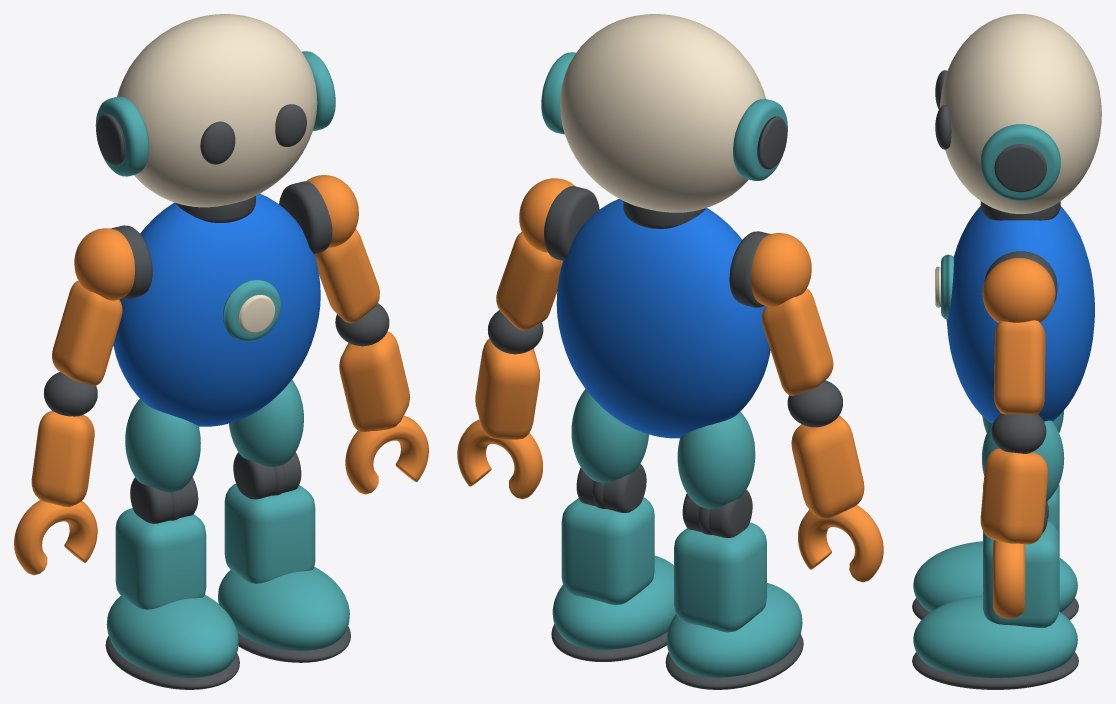
Rendered from revision-model.glb.
The picture shows the model from 3 angles, left to right: view 1: azimuth 30°, elevation 25°; view 2: azimuth 150°, elevation 25°; view 3: azimuth 270°, elevation 25°; orthographic projection. The views are drawn at different scales.
Visible parts, largest first — view 1: Torso • plump oval, Head • cream rounded dome, Boot -1, Boot 1, Shin -1, Shin 1, Forearm 1, Upper leg -1, Upper arm -1, Forearm -1, Upper leg 1, Upper arm 1 (+20 smaller); view 2: Torso • plump oval, Head • cream rounded dome, Shin -1, Shin 1, Boot -1, Boot 1, Upper leg -1, Forearm -1, Upper arm -1, Forearm 1, Upper leg 1, Upper arm 1 (+16 smaller); view 3: Head • cream rounded dome, Torso • plump oval, Boot 1, Forearm 1, Upper arm 1, Shin 1, Boot -1, Orange shoulder 1, Ear turquoise housing 1, Open claw 1, Dark boot sole 1, Ear dark inset 1 (+8 smaller).
Boxes of the visible parts, box(x1,y1,x2,y2) form: Torso • plump oval: box(113, 194, 320, 426); Head • cream rounded dome: box(117, 14, 317, 207); Boot -1: box(106, 595, 238, 677); Boot 1: box(218, 567, 349, 650); Shin -1: box(115, 508, 206, 609); Shin 1: box(224, 483, 315, 583); Forearm 1: box(339, 331, 410, 431); Upper leg -1: box(125, 399, 200, 492); Upper arm -1: box(52, 280, 122, 385); Forearm -1: box(31, 410, 94, 506); Upper leg 1: box(229, 379, 303, 466); Upper arm 1: box(314, 229, 379, 323); Torso • plump oval: box(556, 199, 770, 438); Head • cream rounded dome: box(560, 14, 765, 212); Shin -1: box(674, 522, 766, 632); Shin 1: box(561, 497, 654, 604); Boot -1: box(666, 583, 802, 677); Boot 1: box(552, 555, 676, 649); Upper leg -1: box(677, 411, 755, 508); Forearm -1: box(791, 415, 864, 519); Upper arm -1: box(762, 288, 833, 395); Forearm 1: box(475, 338, 539, 439); Upper leg 1: box(571, 389, 648, 482); Upper arm 1: box(496, 232, 562, 330); Head • cream rounded dome: box(939, 14, 1101, 213); Torso • plump oval: box(946, 206, 1094, 423); Boot 1: box(913, 595, 1077, 677); Forearm 1: box(980, 448, 1048, 544); Upper arm 1: box(994, 320, 1045, 414); Shin 1: box(983, 521, 1059, 627); Boot -1: box(913, 541, 1077, 612); Orange shoulder 1: box(982, 258, 1055, 322); Ear turquoise housing 1: box(980, 124, 1060, 200); Open claw 1: box(993, 540, 1025, 618); Dark boot sole 1: box(912, 652, 1078, 689); Ear dark inset 1: box(994, 144, 1046, 192).
Bounding box in the file's own units: 4.13 × 6.03 × 1.66.
